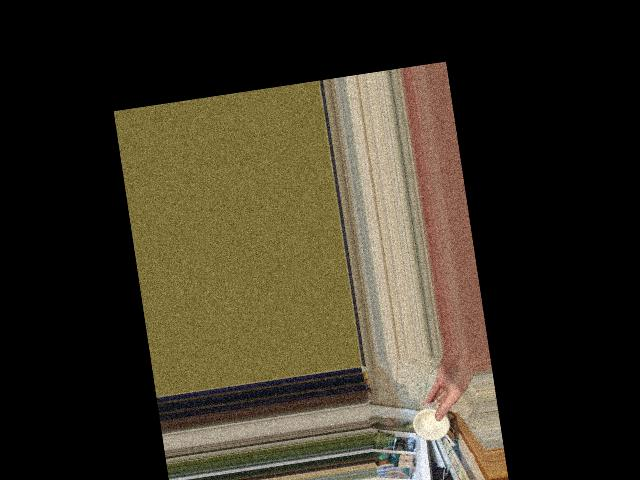cotage: (420, 400, 452, 438)
